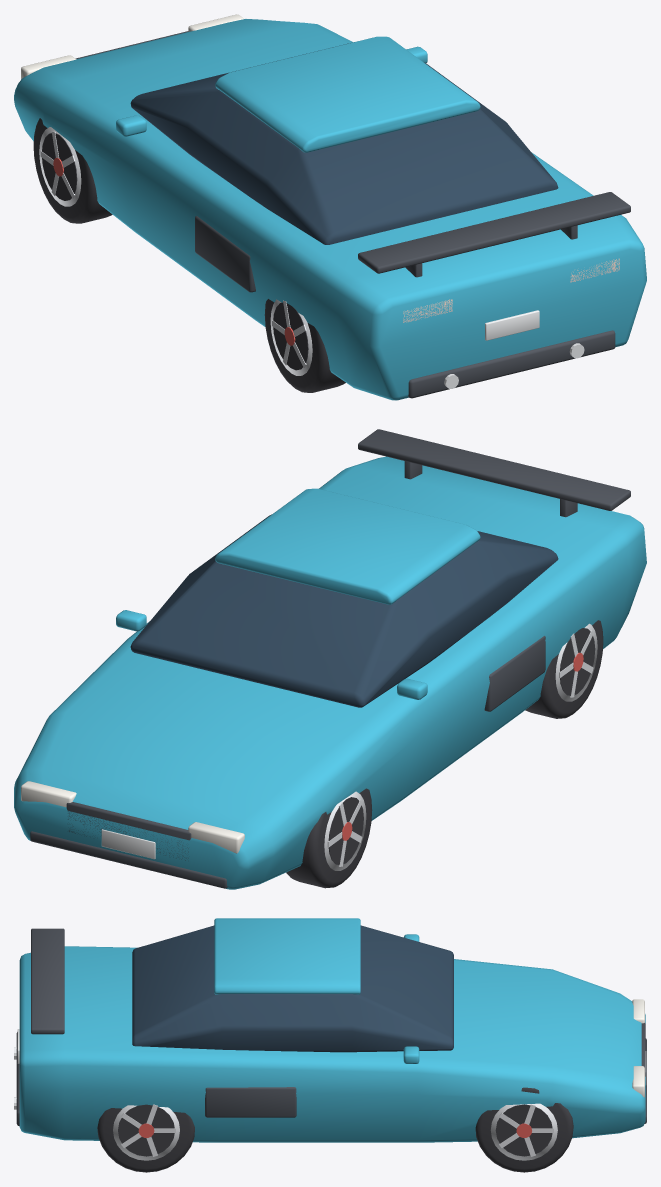
Rendered from Car_SportsGT.fbx.
3 views of the same model, one above another, from view 1: azimuth 30°, elevation 25°; view 2: azimuth 150°, elevation 25°; view 3: azimuth 270°, elevation 25° (orthographic). The views are drawn at different scales.
Visible parts, largest first — view 1: Car_Body, Wheel_FL, Wheel_RL; view 2: Car_Body, Wheel_FL, Wheel_RL; view 3: Car_Body, Wheel_FR, Wheel_RR.
Boxes of the visible parts, bbox=[...] form: Car_Body: bbox=[14, 14, 646, 400]; Wheel_FL: bbox=[33, 118, 112, 223]; Wheel_RL: bbox=[264, 299, 345, 392]; Car_Body: bbox=[14, 429, 646, 889]; Wheel_FL: bbox=[286, 788, 372, 888]; Wheel_RL: bbox=[525, 620, 603, 718]; Car_Body: bbox=[14, 918, 646, 1142]; Wheel_FR: bbox=[475, 1087, 573, 1172]; Wheel_RR: bbox=[97, 1104, 194, 1172].
Bounding box in the file's own units: 2.04 × 1.32 × 4.49.
